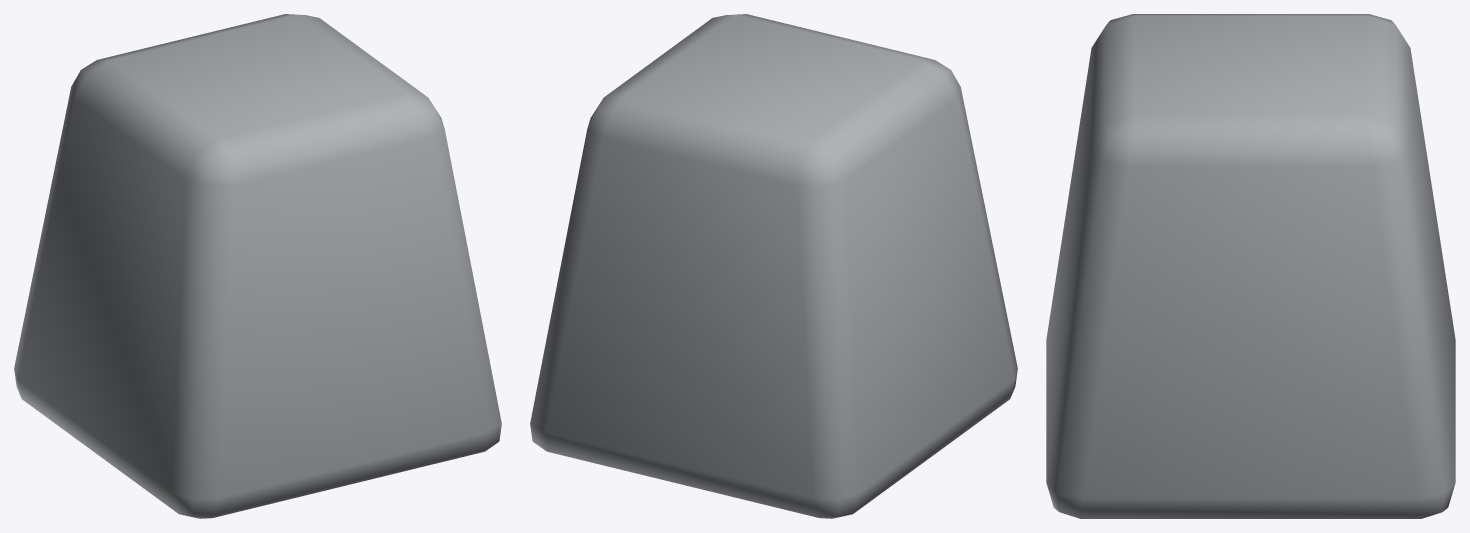
The model's file is Stone.fbx.
3 views of the same model, side by side, from view 1: azimuth 30°, elevation 25°; view 2: azimuth 150°, elevation 25°; view 3: azimuth 270°, elevation 25° (orthographic). The views are drawn at different scales.
Visible parts, largest first — view 1: Cube; view 2: Cube; view 3: Cube.
Boxes of the visible parts, x1,y1,x2,y2 form: Cube: (14,14,501,518); Cube: (530,14,1017,518); Cube: (1046,14,1455,518).
Bounding box in the file's own units: 195 × 200 × 195.
